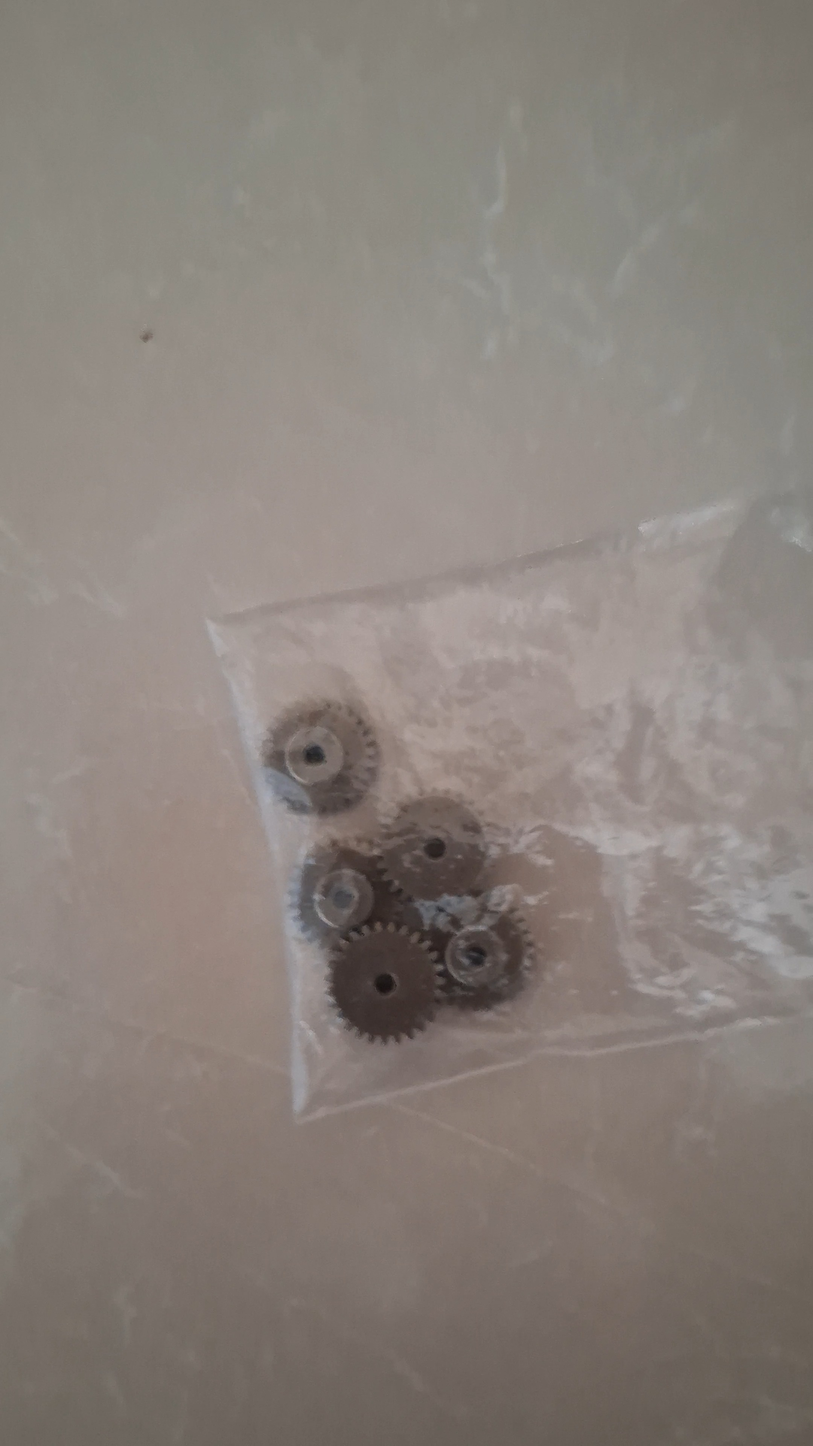spur gear: (262, 701, 378, 814), (329, 921, 439, 1040), (289, 841, 400, 941), (381, 796, 486, 900), (442, 909, 535, 1008)
